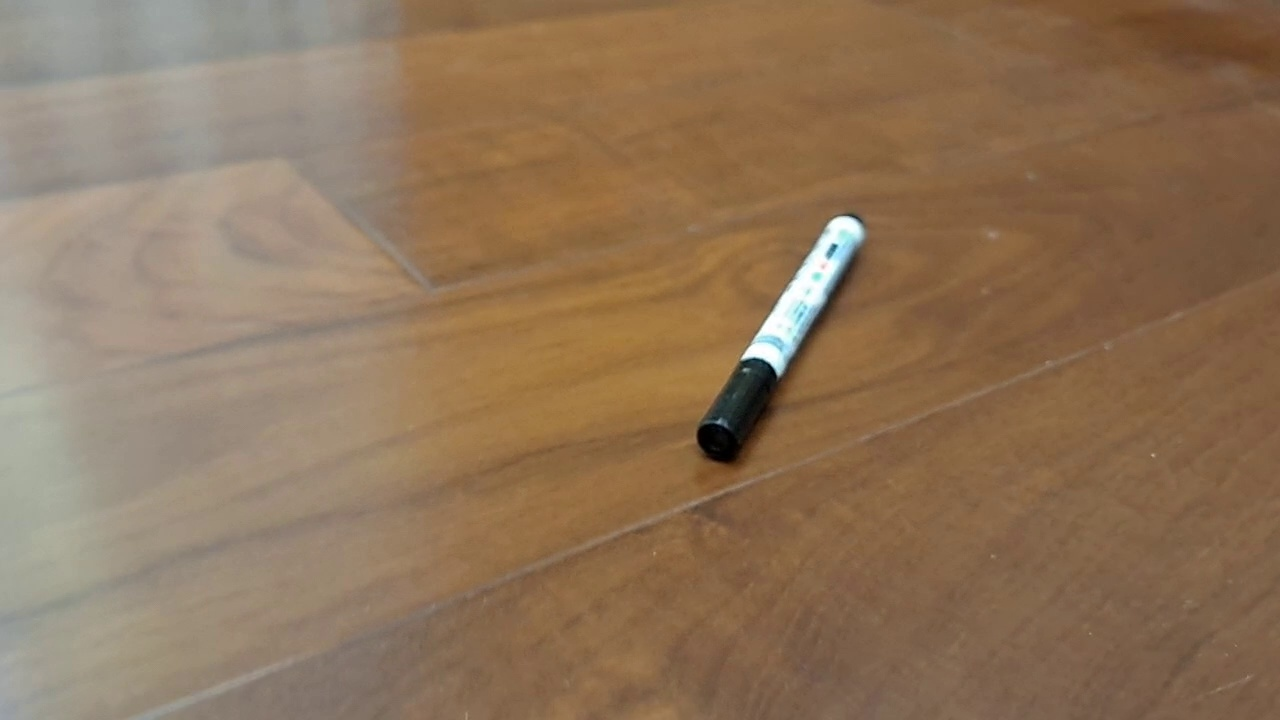pen: (695, 213, 867, 463)
